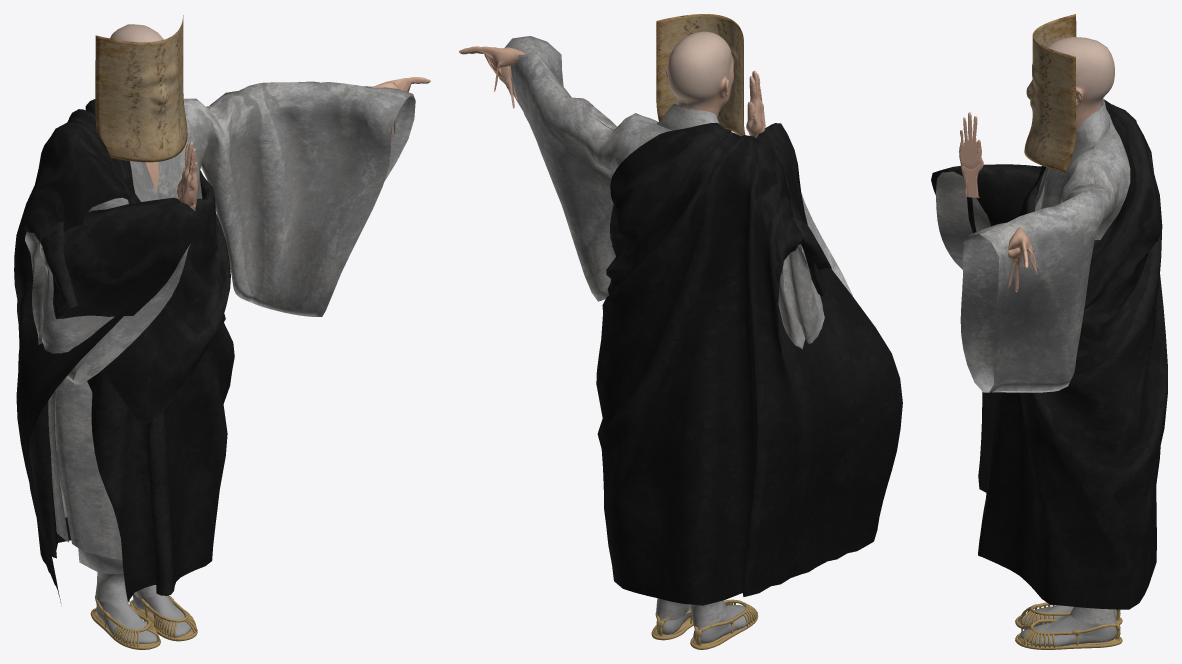
File: monk-pointing-right.glb
3 renders of one model, left to right at view 1: azimuth 30°, elevation 25°; view 2: azimuth 150°, elevation 25°; view 3: azimuth 270°, elevation 25°, orthographic.
Parts seen in each view (by area): view 1: CorridorGuide_gasa001_gasa_0, CorridorGuide_upper001_upper_0, Face_Aged_Paper, CorridorGuide_man001_man_0, CorridorGuide_ChamferBox004_shoes_0, CorridorGuide_pants001_pants_0; view 2: CorridorGuide_gasa001_gasa_0, CorridorGuide_upper001_upper_0, CorridorGuide_man001_man_0, Face_Aged_Paper, CorridorGuide_ChamferBox004_shoes_0, CorridorGuide_pants001_pants_0; view 3: CorridorGuide_gasa001_gasa_0, CorridorGuide_upper001_upper_0, CorridorGuide_man001_man_0, Face_Aged_Paper, CorridorGuide_ChamferBox004_shoes_0, CorridorGuide_pants001_pants_0.
Boxes of the visible parts, <box> form: CorridorGuide_gasa001_gasa_0: <box>14,99,234,603</box>; CorridorGuide_upper001_upper_0: <box>25,81,415,559</box>; Face_Aged_Paper: <box>95,15,187,162</box>; CorridorGuide_man001_man_0: <box>96,24,430,643</box>; CorridorGuide_ChamferBox004_shoes_0: <box>90,595,197,649</box>; CorridorGuide_pants001_pants_0: <box>56,435,158,603</box>; CorridorGuide_gasa001_gasa_0: <box>596,123,902,605</box>; CorridorGuide_upper001_upper_0: <box>504,36,853,349</box>; CorridorGuide_man001_man_0: <box>459,31,765,643</box>; Face_Aged_Paper: <box>656,14,745,136</box>; CorridorGuide_ChamferBox004_shoes_0: <box>651,599,758,649</box>; CorridorGuide_pants001_pants_0: <box>656,598,727,627</box>; CorridorGuide_gasa001_gasa_0: <box>931,99,1167,609</box>; CorridorGuide_upper001_upper_0: <box>936,98,1130,392</box>; CorridorGuide_man001_man_0: <box>959,37,1117,646</box>; Face_Aged_Paper: <box>1024,14,1076,172</box>; CorridorGuide_ChamferBox004_shoes_0: <box>1015,602,1122,649</box>; CorridorGuide_pants001_pants_0: <box>1070,607,1116,624</box>.
Bounding box in the file's own units: 1.19 × 1.6 × 0.5745.
8 materials, 6 textured.
